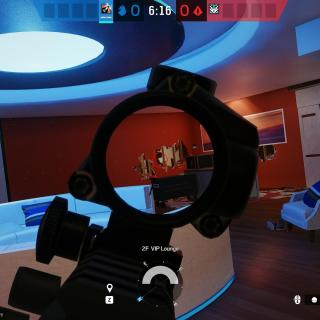Character: (157, 151, 163, 164)
Head: (157, 152, 163, 158)
